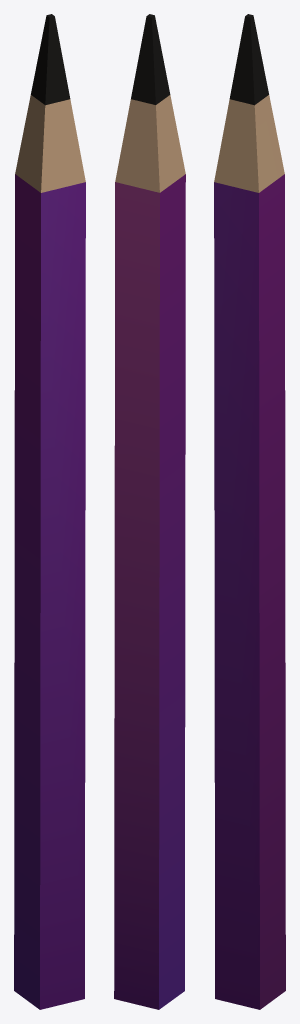
Rendered from pencil-purple.fbx.
3 renders of one model, left to right at view 1: azimuth 30°, elevation 25°; view 2: azimuth 150°, elevation 25°; view 3: azimuth 330°, elevation 25°, orthographic.
Visible parts, largest first — view 1: pencil-purple; view 2: pencil-purple; view 3: pencil-purple.
Part boxes in pixels (x1,y1,x2,y2): pencil-purple: (14,14,85,1009); pencil-purple: (114,14,185,1009); pencil-purple: (214,14,285,1009).
Size of the model in its own units: 0.0109 by 0.2267 by 0.0113.
